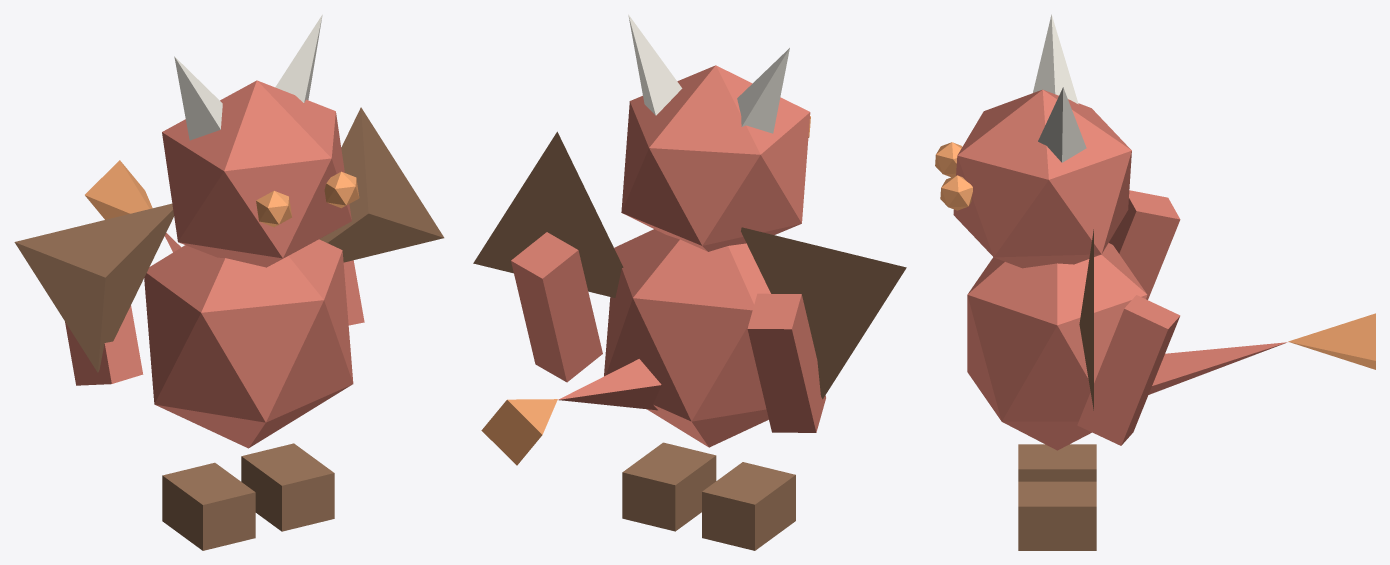
Rendered from npcpose_imp_idle_00.glb.
3 renders of one model, left to right at view 1: azimuth 30°, elevation 25°; view 2: azimuth 150°, elevation 25°; view 3: azimuth 270°, elevation 25°, orthographic. The views are drawn at different scales.
Parts seen in each view (by area): view 1: npcpose; view 2: npcpose; view 3: npcpose.
Part boxes in pixels (x1=…): npcpose: x1=14, y1=14, x2=444, y2=550; npcpose: x1=473, y1=14, x2=906, y2=550; npcpose: x1=935, y1=14, x2=1375, y2=550.
Size of the model in its own units: 0.9811 by 1.06 by 0.8996.
